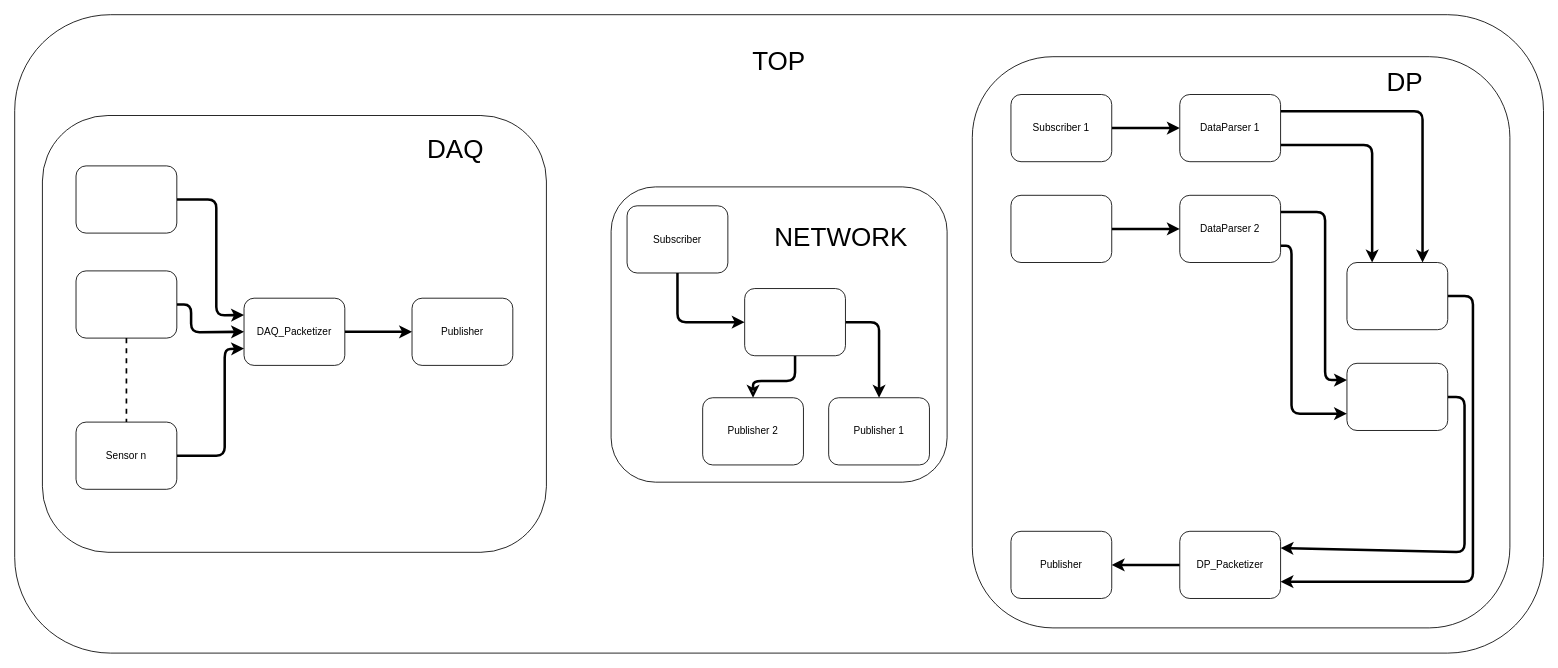
Some shapes in this 1558 by 668 pixel diagram are drawn without their labels. The centre of each missing label's shape, as x and y in pixels:
"DFC" belongs at point (794, 322).
"Fusion 1" belongs at point (1397, 296).
"Fusion 2" belongs at point (1397, 396).
"Sensor 1" belongs at point (126, 199).
"Sensor 2" belongs at point (126, 304).
"Subscriber 2" belongs at point (1061, 228).
